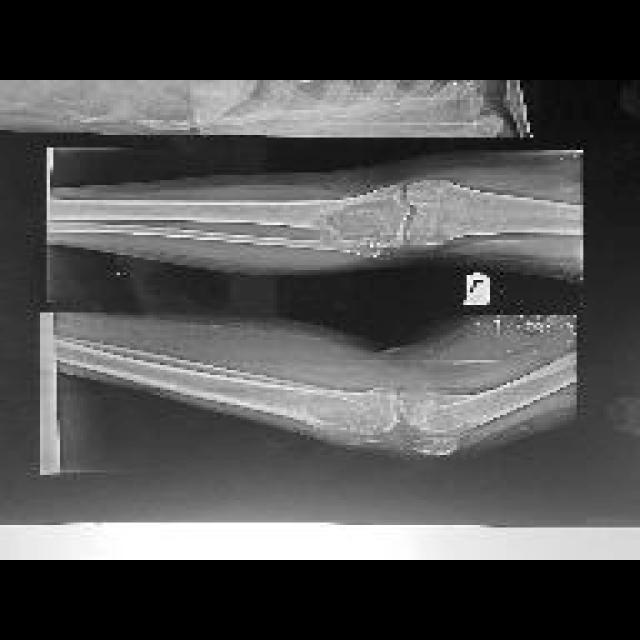bone-cancer: (320, 200, 407, 260), (300, 400, 384, 442)
